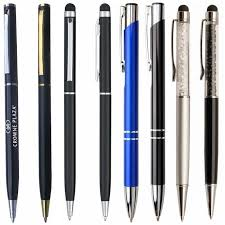pen: (118, 3, 141, 223), (146, 3, 167, 223), (3, 5, 21, 223), (173, 2, 190, 222), (201, 6, 218, 222), (37, 3, 50, 222), (63, 3, 76, 222), (97, 4, 109, 221)
